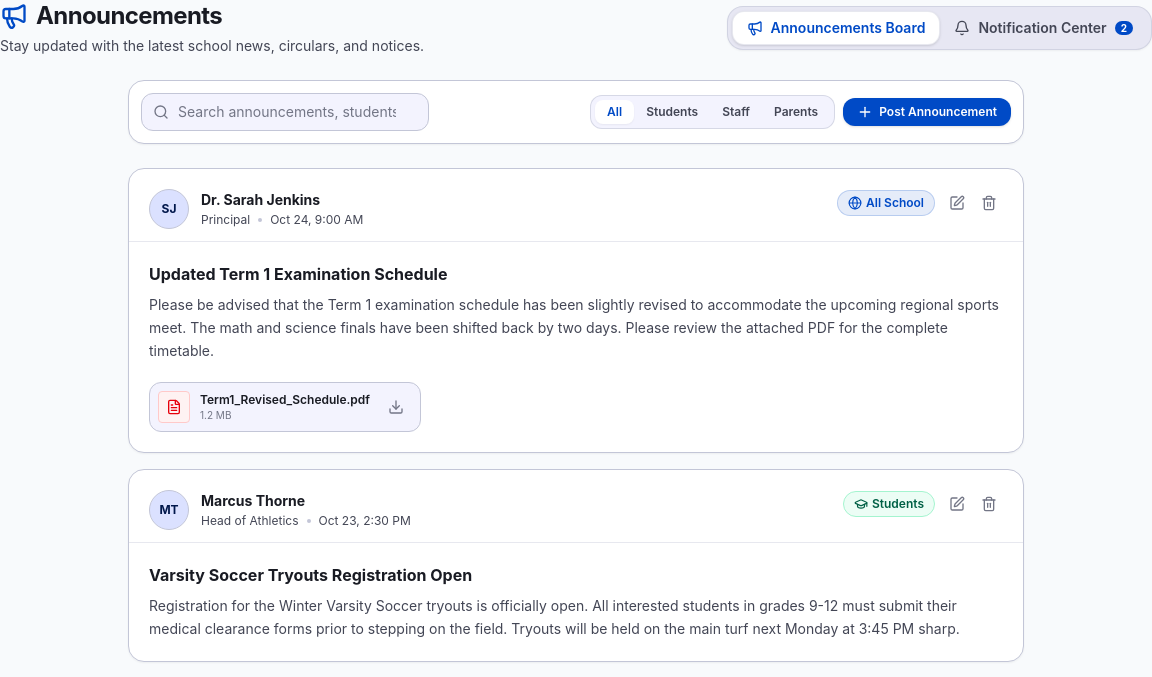
it: AnnouncementsPage (Announcements Board & Notifications Stitch Clone) › opens Post Announcement drawer and submits a new announcement
Click the button "Post Announcement".
click(927, 112)  # box [843,98,1011,126]
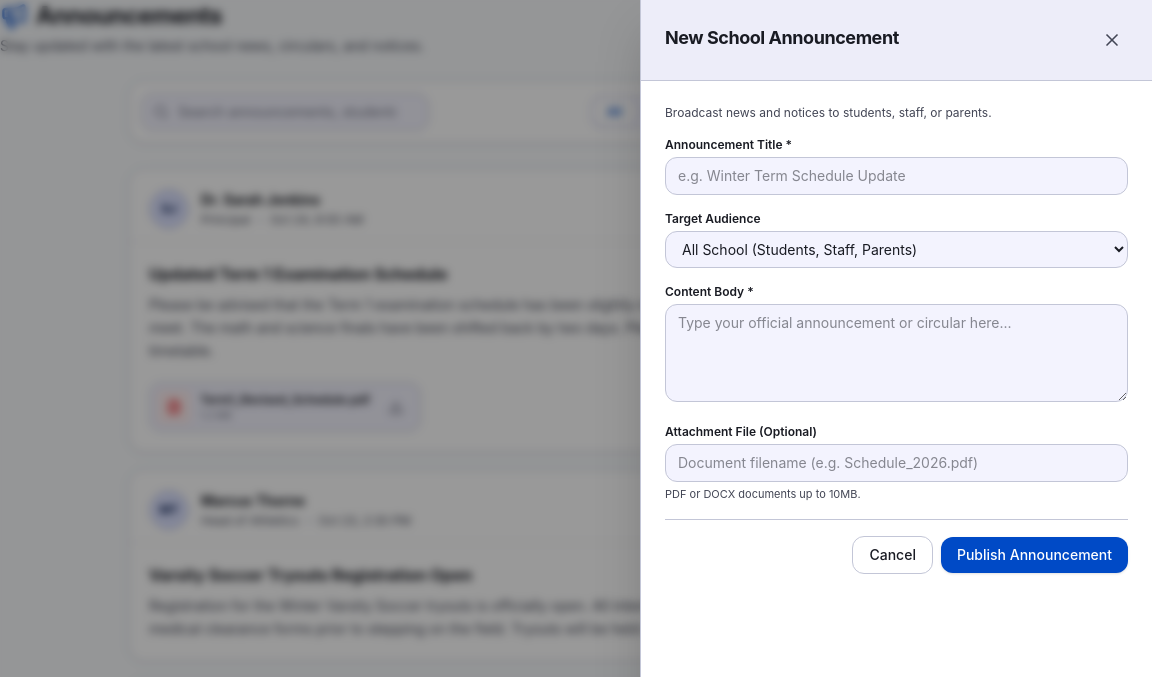
Result: the heading "New School Announcement" is shown at [665,24,899,52]
Type "Science Fair 2026 Announcement" into the field with placeholder "e.g. Winter Term Schedule Update".
click(896, 176); type("Science Fair 2026 Announcement")  # box [665,157,1128,195]
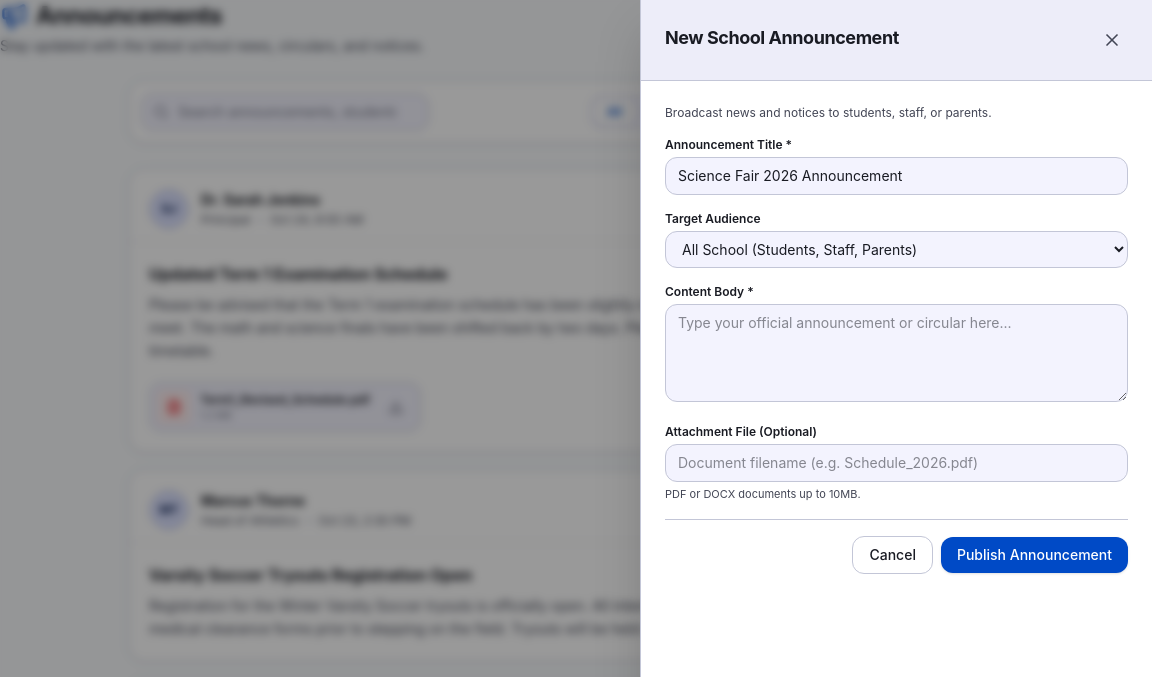
Type "Registration for STEM science fair is open to all students." into the text box with placeholder "Type your official announcement or circular here...".
click(896, 353); type("Registration for STEM science fair is open to all students.")  # box [665,304,1128,402]
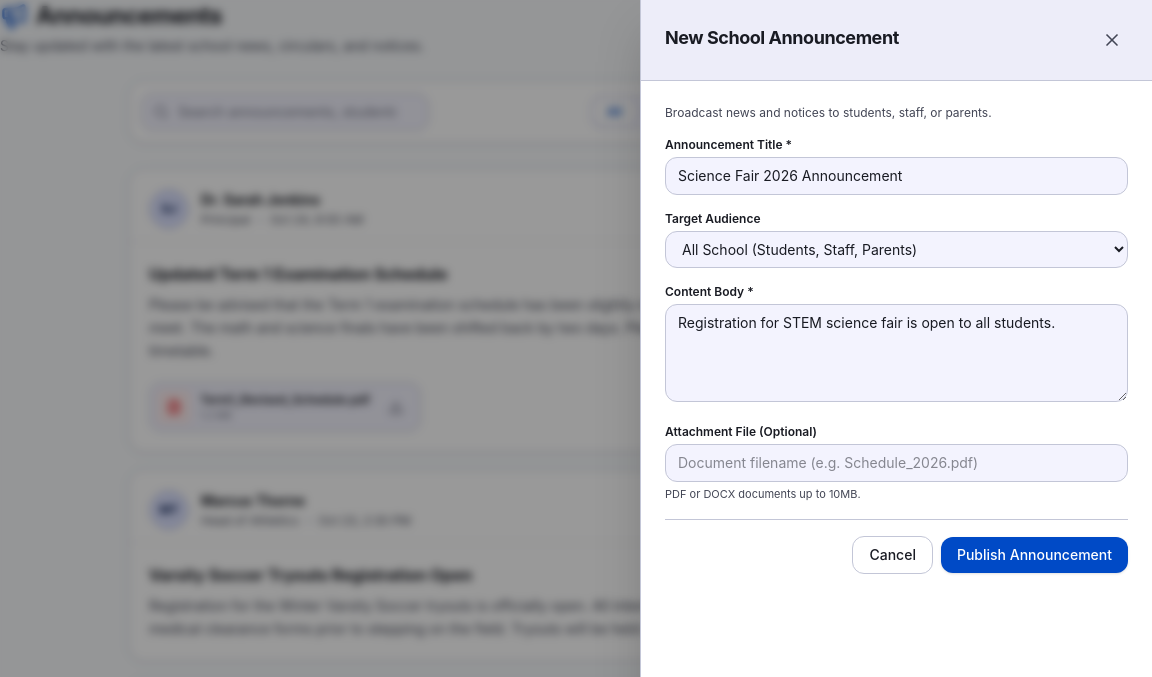
Click the button "Publish Announcement".
click(1034, 554)  # box [941,536,1128,572]
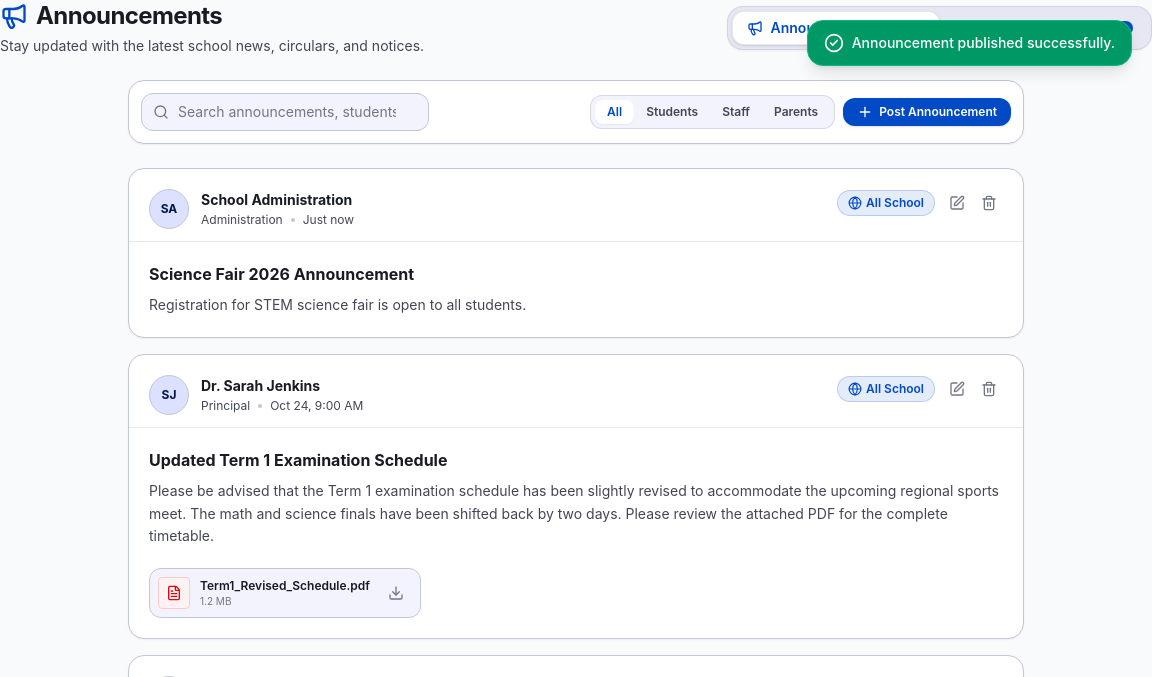
Result: the heading "Science Fair 2026 Announcement" is shown at [149,264,414,284]
